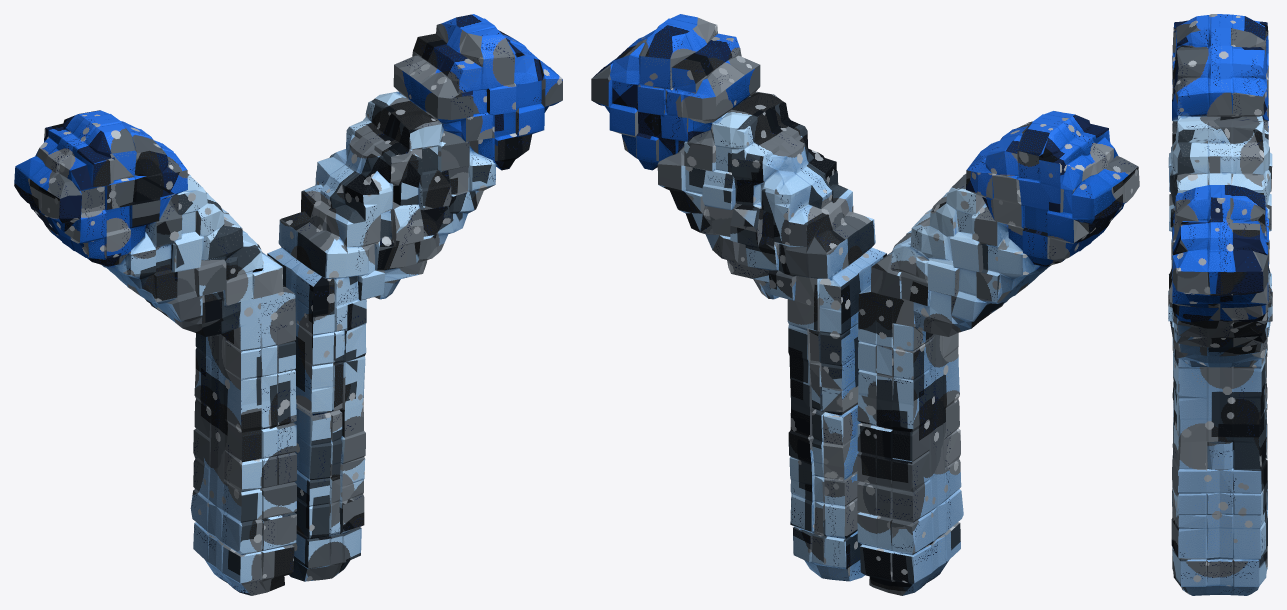
The picture shows the model from 3 angles, left to right: view 1: azimuth 30°, elevation 25°; view 2: azimuth 150°, elevation 25°; view 3: azimuth 270°, elevation 25°; orthographic projection. The views are drawn at different scales.
Visible parts, largest first — view 1: node_0; view 2: node_0; view 3: node_0.
Part boxes in pixels (<box>): node_0: <box>14,14,562,595</box>; node_0: <box>591,14,1139,595</box>; node_0: <box>1168,14,1272,595</box>.
Bounding box in the file's own units: 0.9619 × 0.902 × 0.1798.
Materials: 1 (1 with a texture image).
